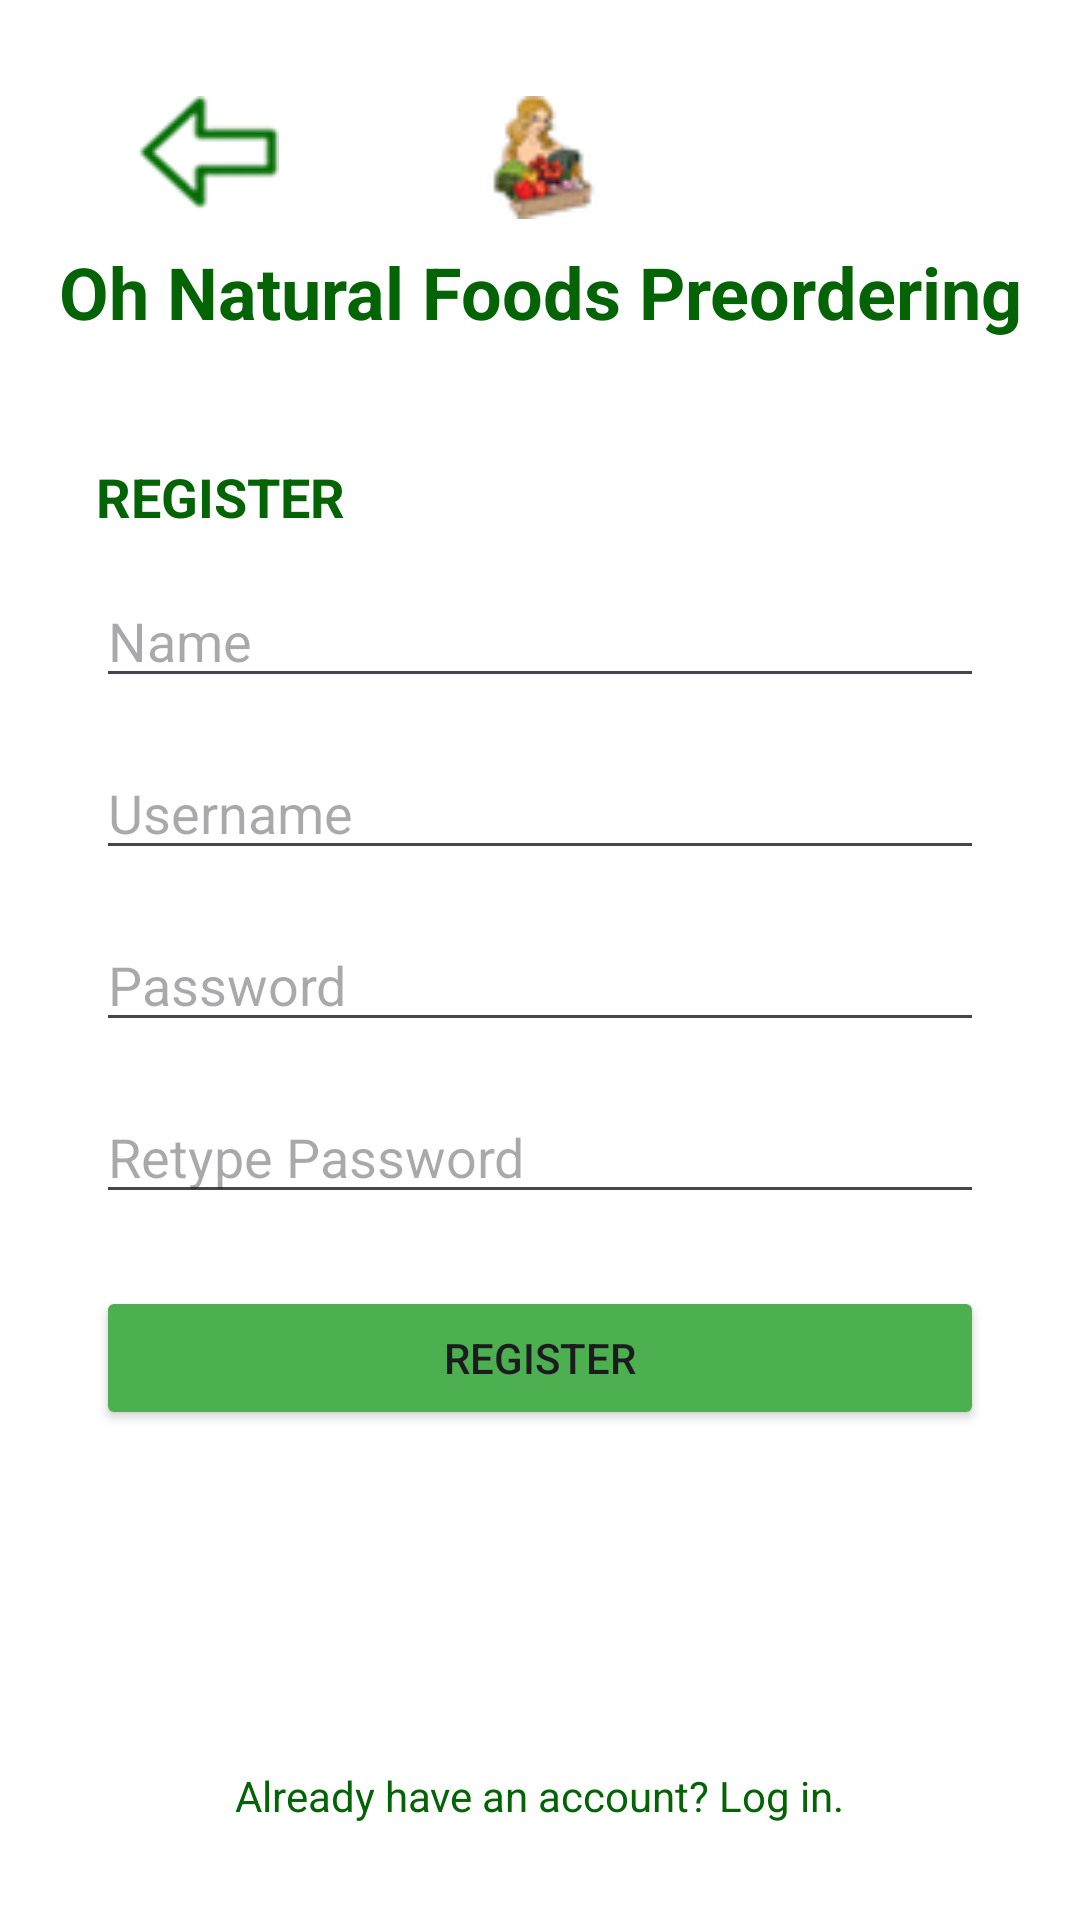

Point at icon controls on the screen. Image size 1080×1920, points as (x=x, y=y).
back: (x=209, y=152)
